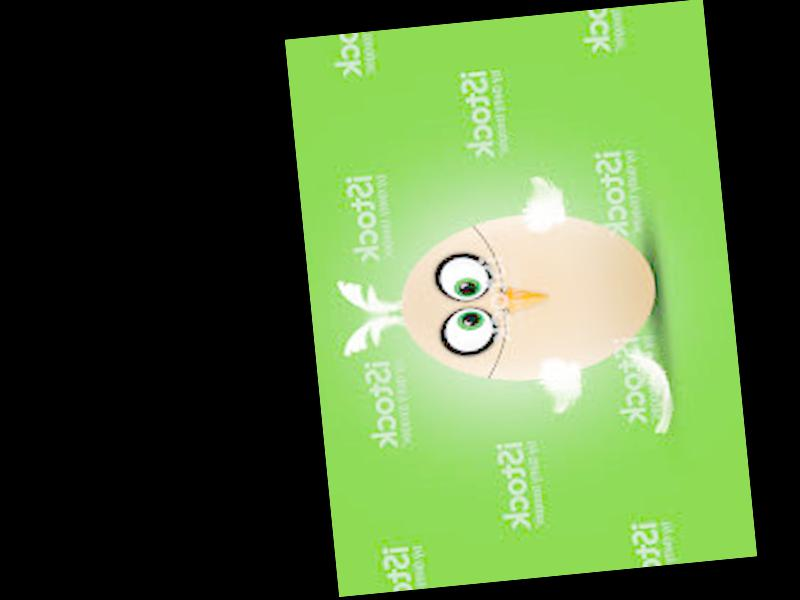Eggs: (393, 204, 665, 392)
